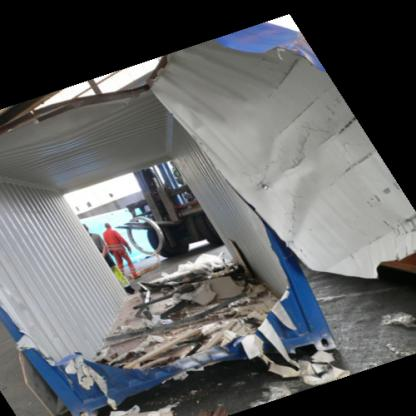Damage: (7, 96, 339, 398)
